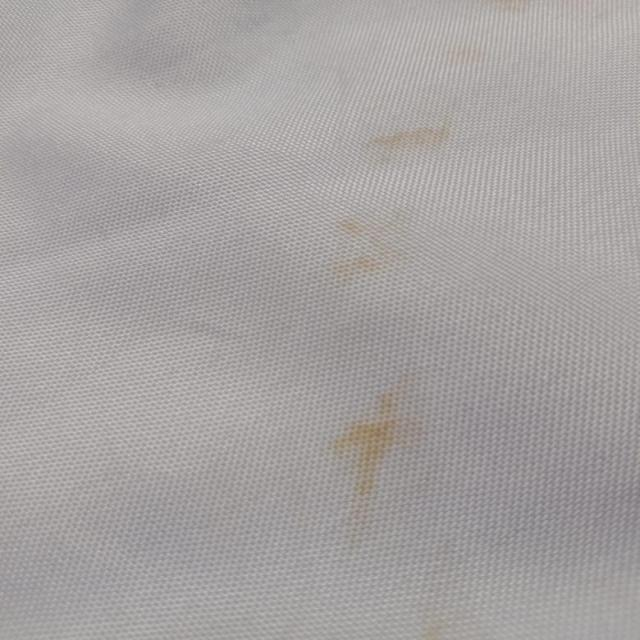stain: (322, 380, 420, 546), (311, 196, 427, 285), (350, 110, 460, 164)
